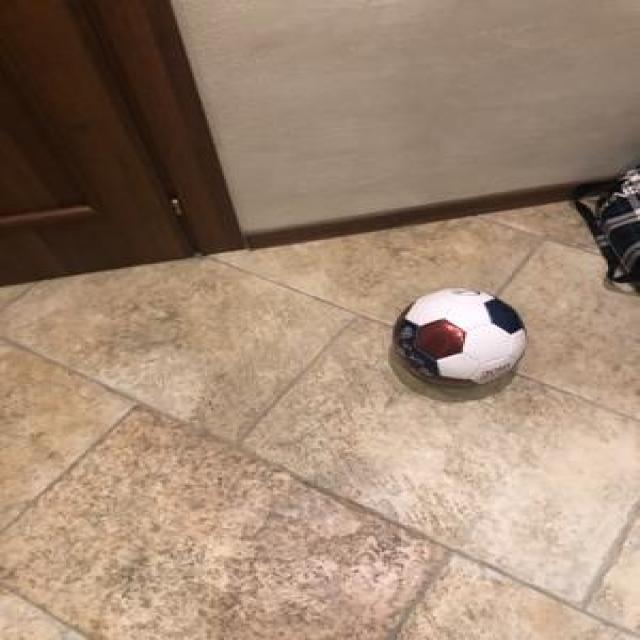Soccer Ball: (388, 286, 527, 391)
